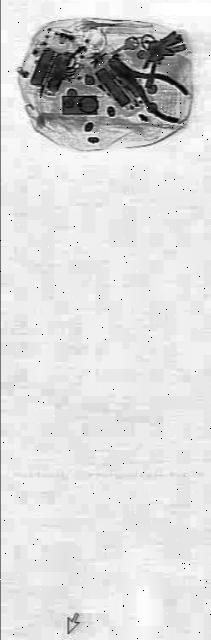Pliers: (106, 37, 187, 137)
